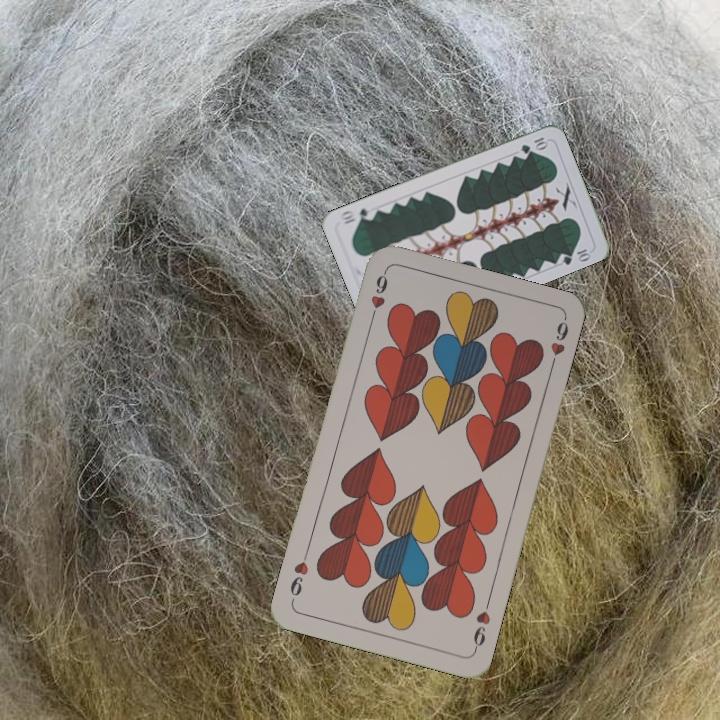G10: (517, 133, 550, 156)
H9: (366, 267, 391, 325), (469, 596, 493, 654)
